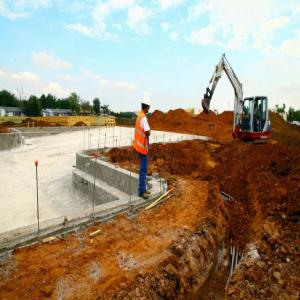white: (140, 96, 152, 115)
